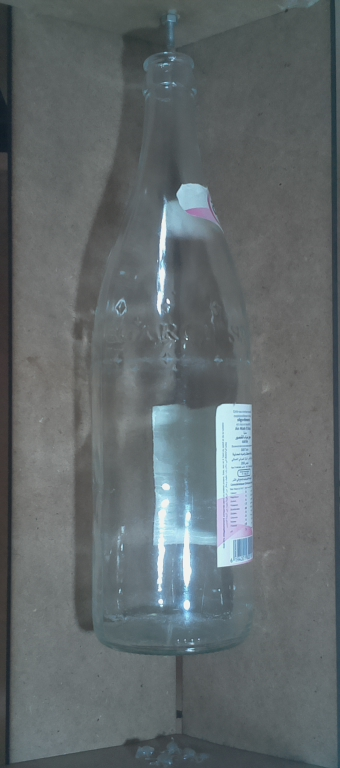Glass: (81, 37, 265, 669)
